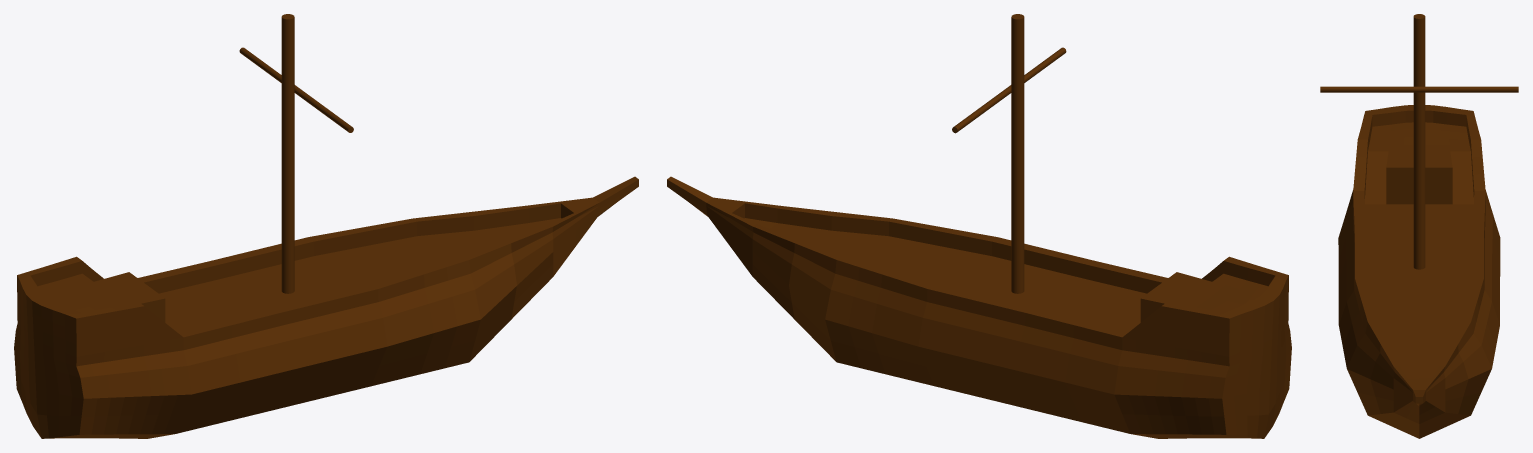
The model's file is Ship.fbx.
3 views of the same model, side by side, from view 1: azimuth 30°, elevation 25°; view 2: azimuth 150°, elevation 25°; view 3: azimuth 270°, elevation 25° (orthographic). The views are drawn at different scales.
Visible parts, largest first — view 1: Cube, Cylinder; view 2: Cube, Cylinder; view 3: Cube, Cylinder.
Part boxes in pixels (x1,y1,x2,y2): Cube: (14, 176, 638, 438); Cylinder: (239, 14, 353, 293); Cube: (667, 176, 1291, 438); Cylinder: (952, 14, 1066, 293); Cube: (1338, 105, 1500, 438); Cylinder: (1320, 14, 1518, 269).
Size of the model in its own units: 384 by 1235 by 757.
